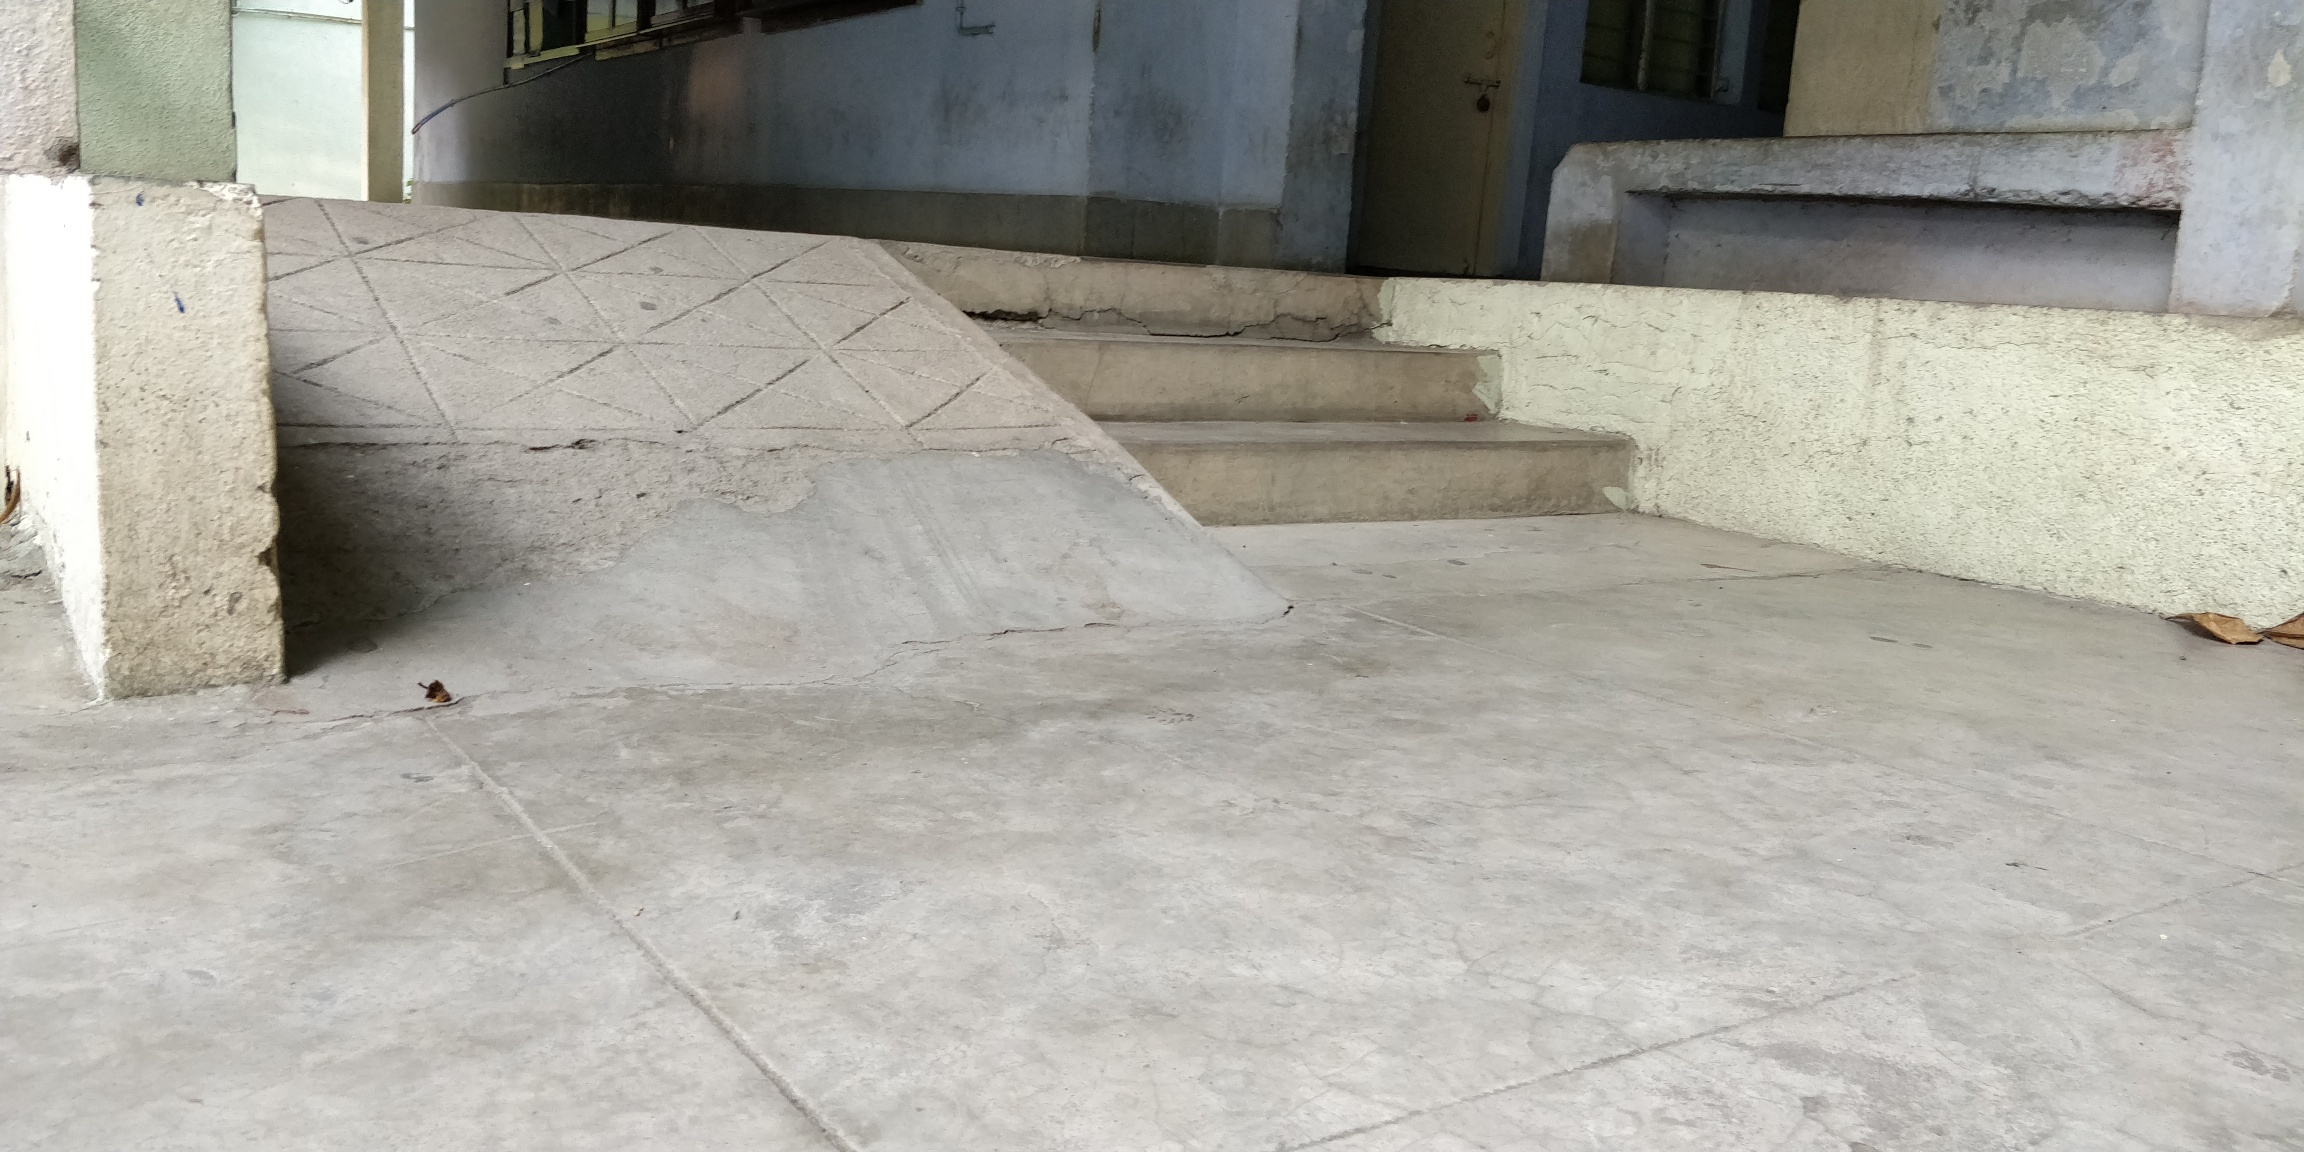stairs_up: (946, 217, 1641, 550)
